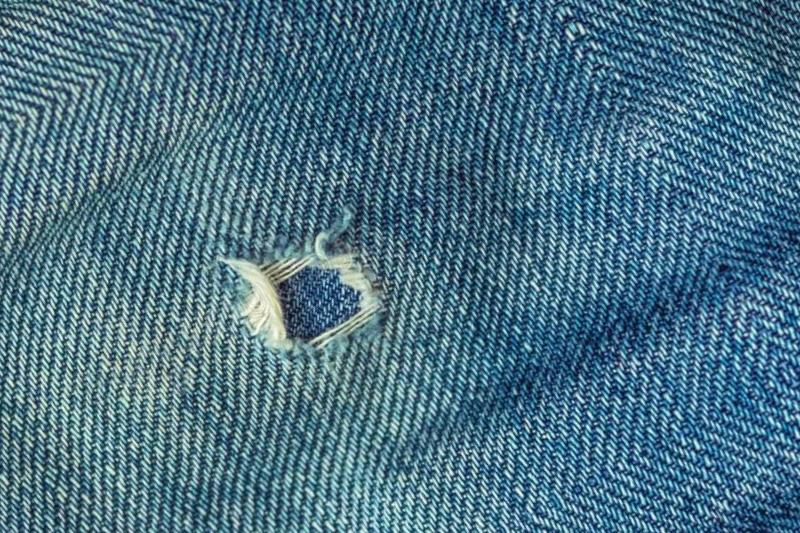hole: (229, 246, 392, 364)
